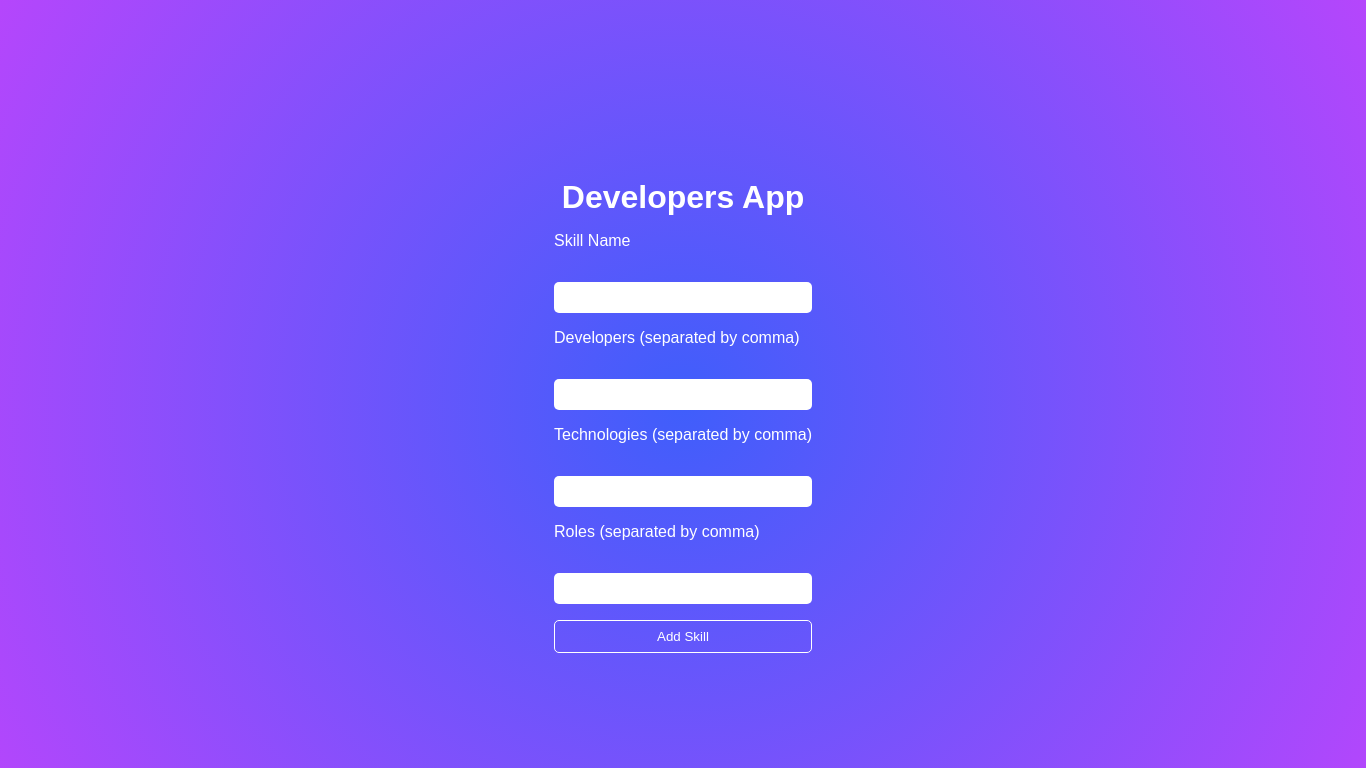
Scenario: App Developers Skills › should load the skills list after the form button is clicked
The image size is (1366, 768).
Click the button "Add Skill" at (683,637), box [554,620,812,653]
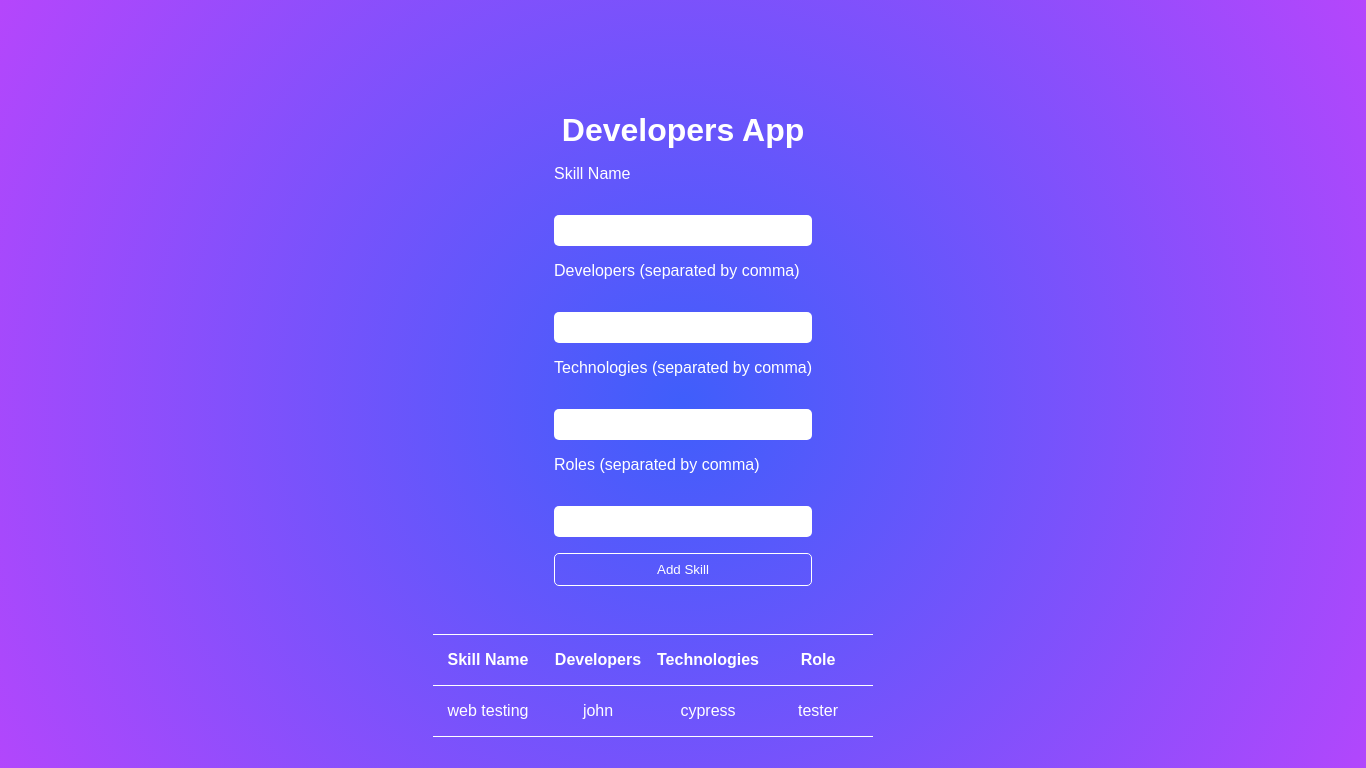
Expected: the table is shown, [433,634,873,737]
